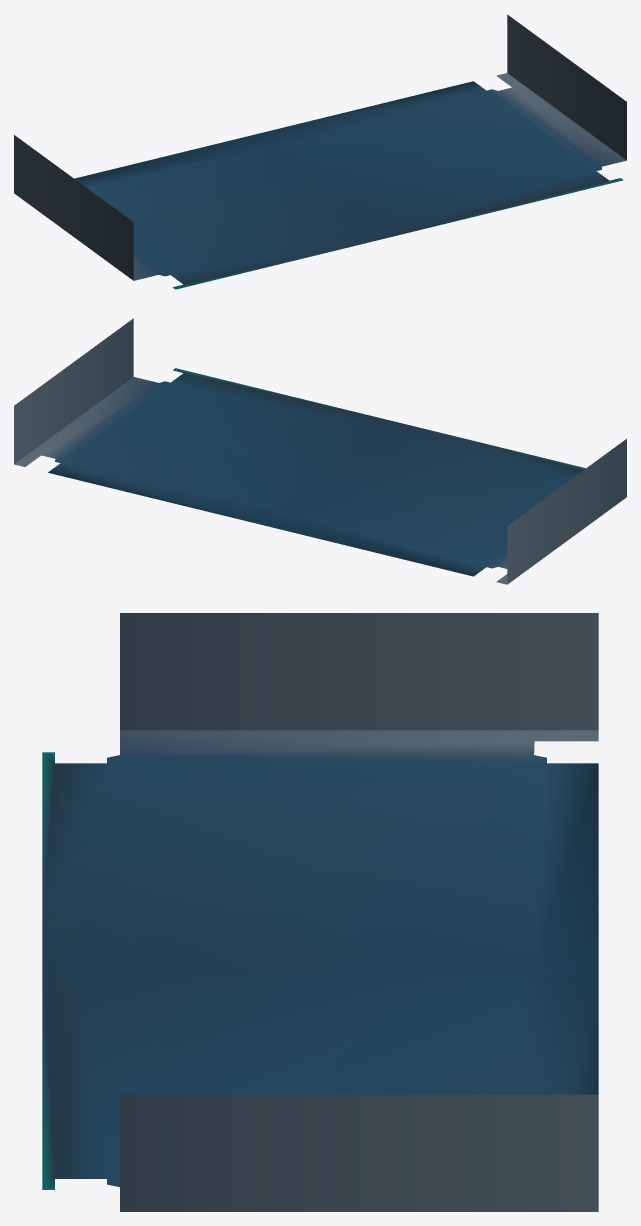
Rendered from LODDoube-roof.fbx.
The picture shows the model from 3 angles, top to bottom: view 1: azimuth 30°, elevation 25°; view 2: azimuth 150°, elevation 25°; view 3: azimuth 270°, elevation 25°; orthographic projection. The views are drawn at different scales.
Visible parts, largest first — view 1: Room.023; view 2: Room.023; view 3: Room.023.
Boxes of the visible parts, x1,y1,x2,y2 form: Room.023: [14, 14, 626, 289]; Room.023: [14, 318, 626, 584]; Room.023: [42, 613, 598, 1211].
Size of the model in its own units: 4400 by 500 by 2150.
